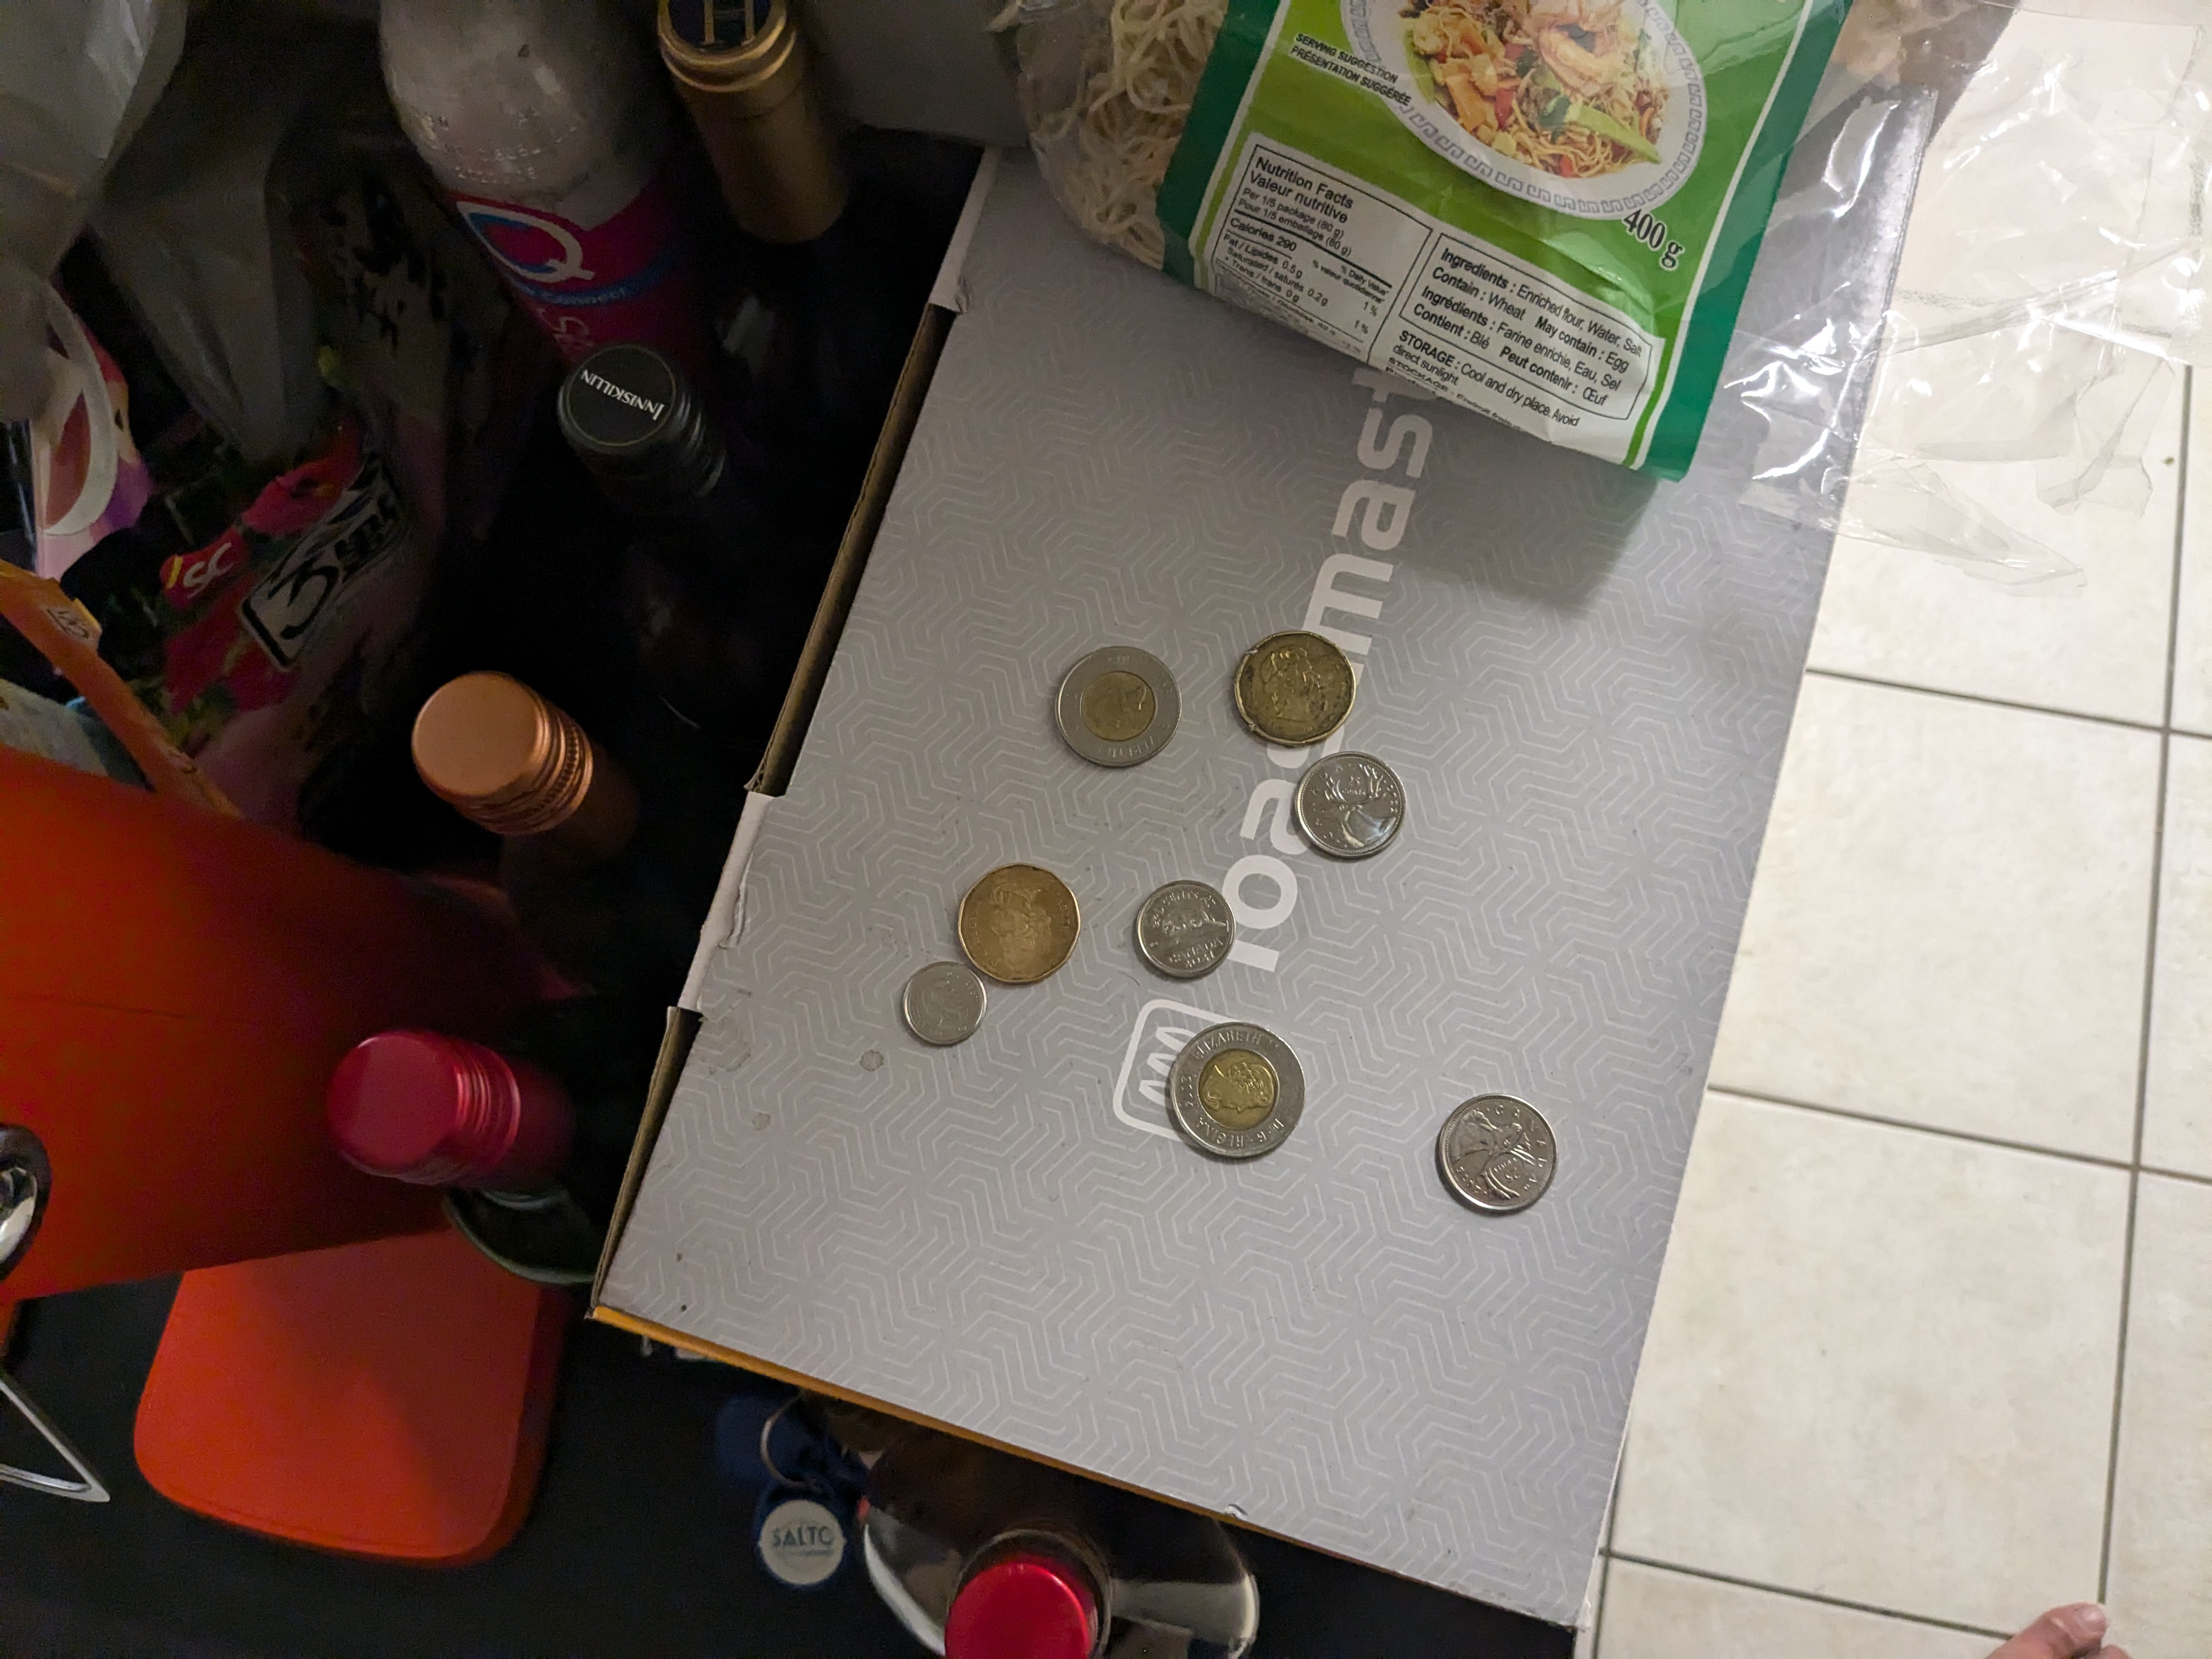dime: (902, 964, 986, 1049)
loonie: (1231, 629, 1357, 749), (960, 863, 1082, 985)
nickel: (1136, 880, 1237, 979)
quarter: (1440, 1096, 1559, 1215), (1291, 753, 1411, 863)
toonie: (1160, 1018, 1308, 1168), (1055, 643, 1184, 772)
